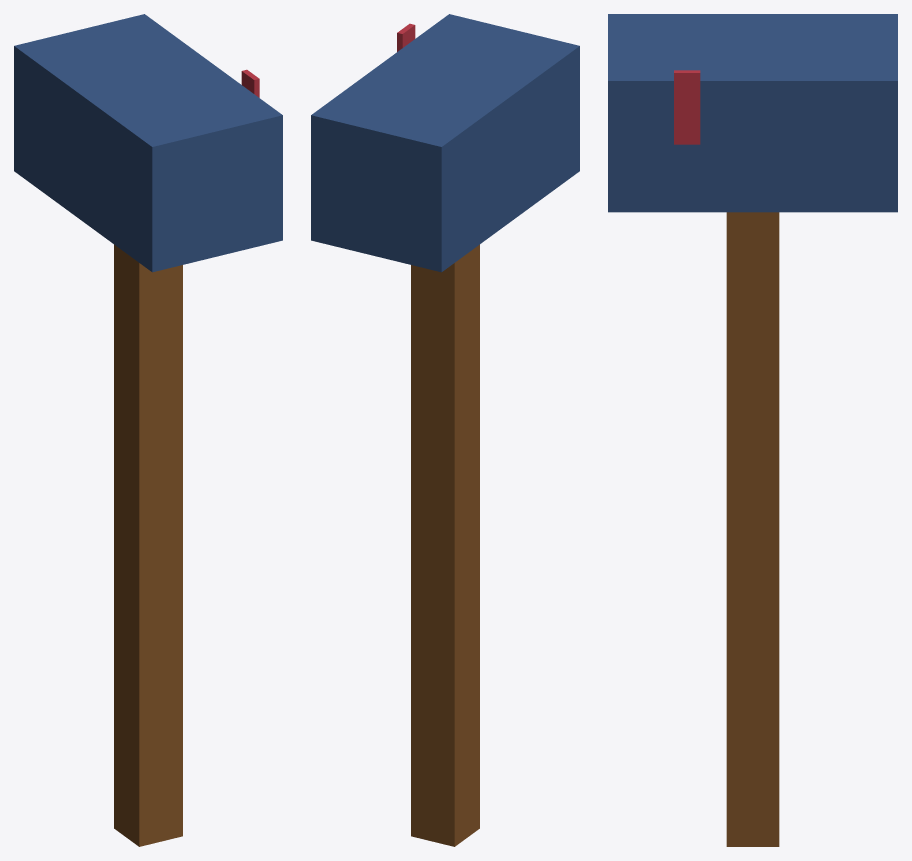
File: mailbox.glb
3 views of the same model, side by side, from view 1: azimuth 30°, elevation 25°; view 2: azimuth 150°, elevation 25°; view 3: azimuth 270°, elevation 25° (orthographic). The views are drawn at different scales.
Visible parts, largest first — view 1: mailbox; view 2: mailbox; view 3: mailbox.
Part boxes in pixels (box(x1,y1,x2,y2)): mailbox: box(14, 14, 282, 846); mailbox: box(311, 14, 579, 846); mailbox: box(608, 14, 897, 846).
Bounding box in the file's own units: 0.255 × 1.34 × 0.44.
